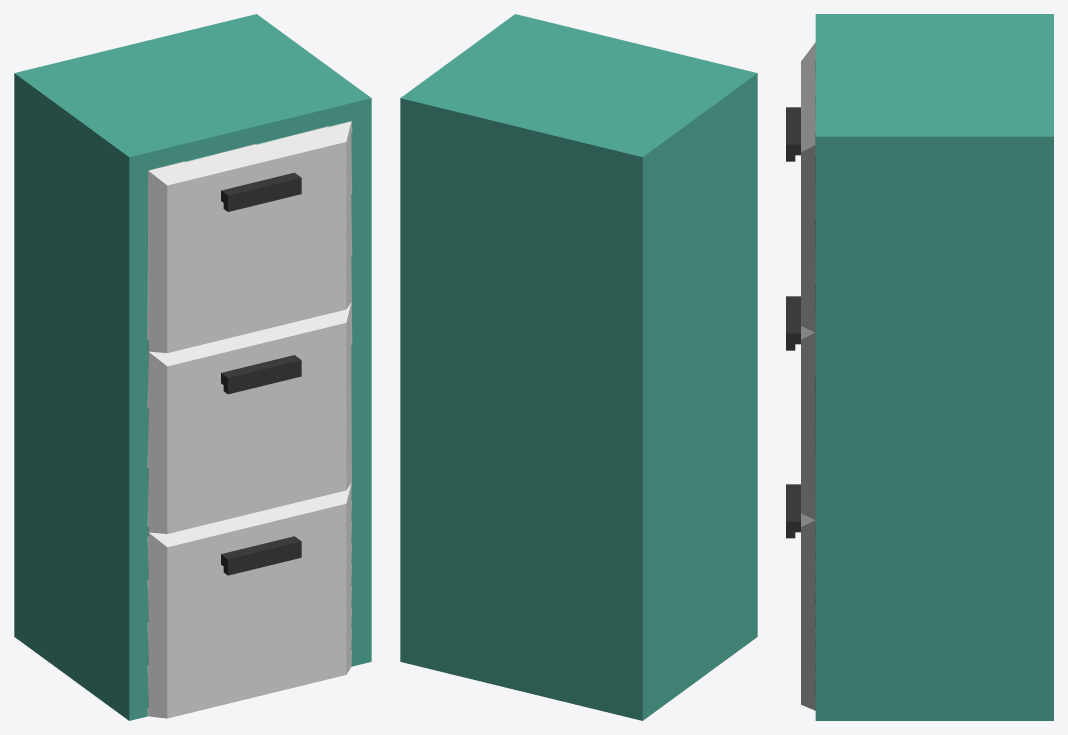
File: wardrobe.fbx
3 views of the same model, side by side, from view 1: azimuth 30°, elevation 25°; view 2: azimuth 150°, elevation 25°; view 3: azimuth 270°, elevation 25° (orthographic). The views are drawn at different scales.
Parts seen in each view (by area): view 1: wardrobe_geo; view 2: wardrobe_geo; view 3: wardrobe_geo.
Boxes of the visible parts, x1=… form: wardrobe_geo: x1=14, y1=14, x2=371, y2=720; wardrobe_geo: x1=400, y1=14, x2=757, y2=720; wardrobe_geo: x1=786, y1=14, x2=1053, y2=720.
Size of the model in its own units: 3.78 by 8.4 by 3.49.
Materials: 1 (1 with a texture image).
